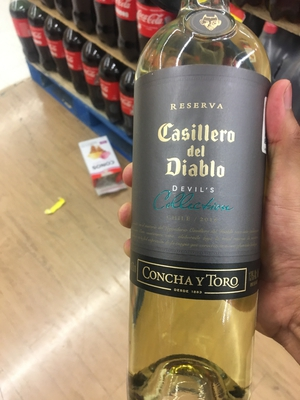casillero del diablo devils collection verde: (116, 13, 291, 400)
